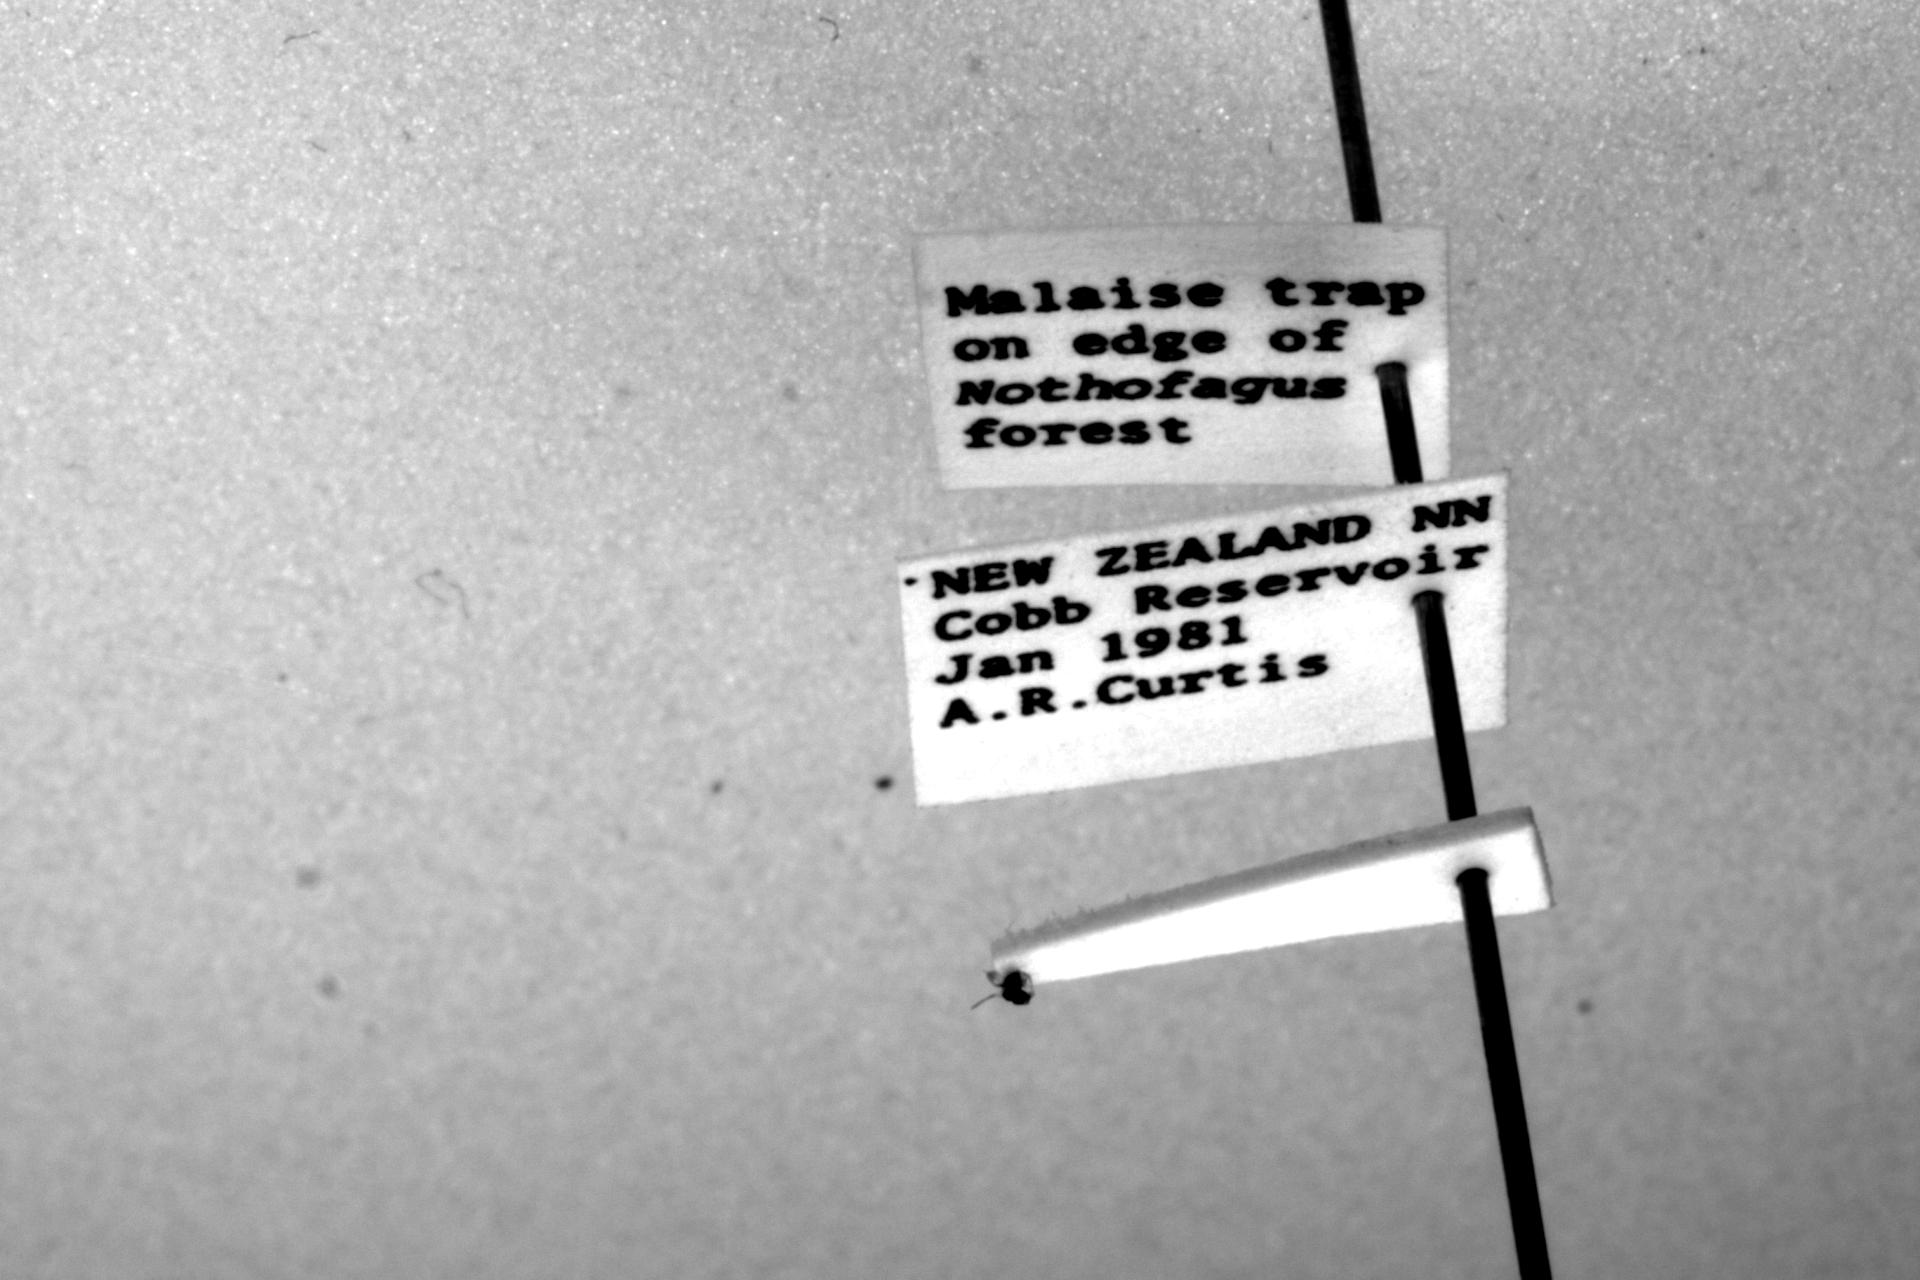typed_label: (900, 476, 1508, 806), (915, 221, 1451, 488)
